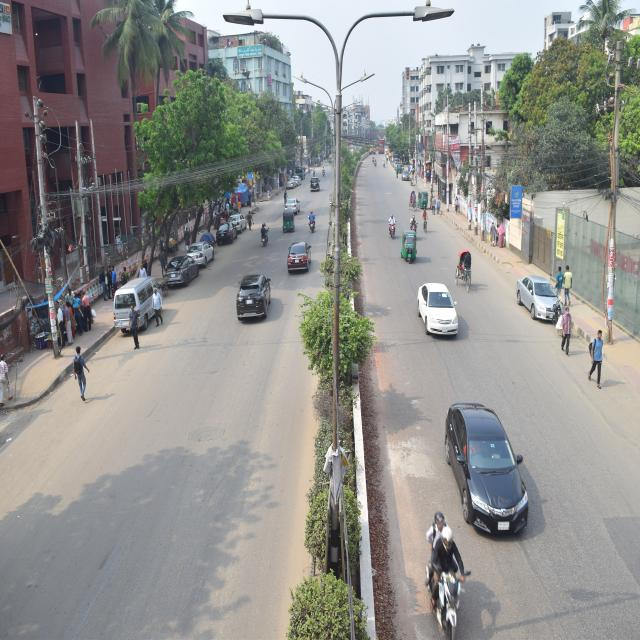car: (443, 409, 541, 524), (236, 268, 276, 324), (418, 288, 454, 334), (165, 244, 200, 291), (185, 241, 217, 268), (215, 213, 238, 245), (231, 212, 249, 230), (286, 195, 300, 212), (286, 178, 298, 192), (401, 167, 411, 182), (312, 177, 320, 191), (293, 174, 300, 184)
microbus: (113, 273, 161, 331), (518, 280, 560, 321), (261, 226, 274, 248)
motorbike: (422, 520, 464, 630), (388, 218, 402, 244), (307, 204, 319, 233), (409, 219, 420, 243), (321, 168, 327, 182)
